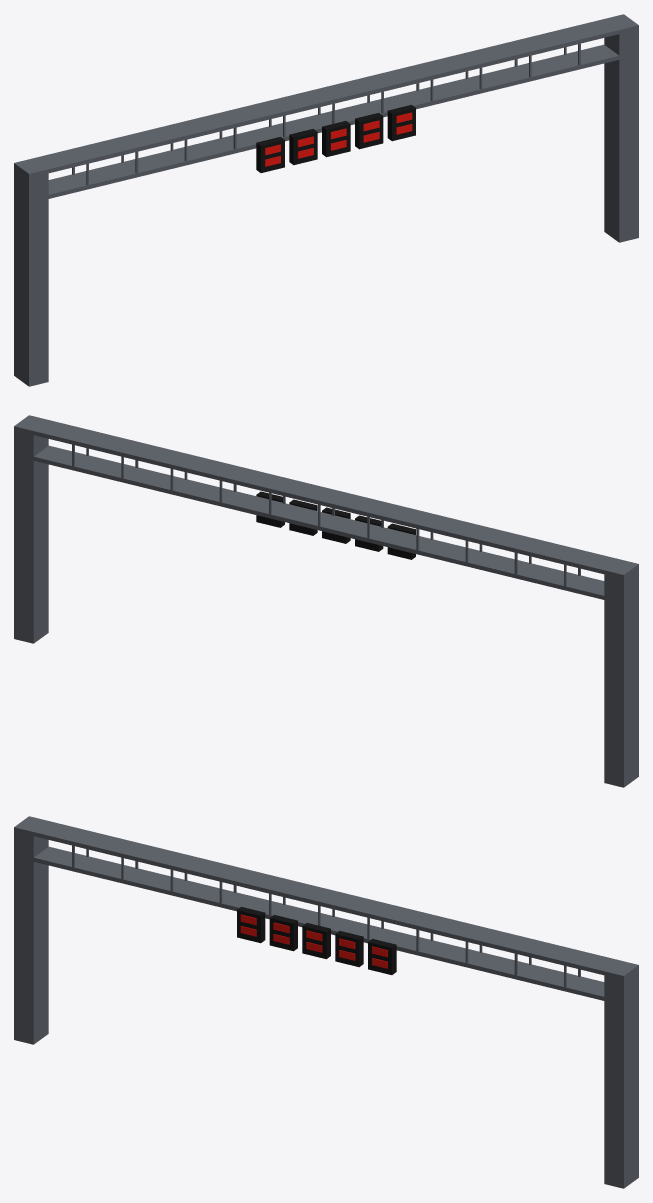
The model's file is start_gantry.glb.
3 renders of one model, top to bottom at view 1: azimuth 30°, elevation 25°; view 2: azimuth 150°, elevation 25°; view 3: azimuth 330°, elevation 25°, orthographic.
Visible parts, largest first — view 1: chunk_0_0; view 2: chunk_0_0; view 3: chunk_0_0.
Part boxes in pixels (box(x1,y1,x2,y2)): chunk_0_0: box(14, 14, 638, 386); chunk_0_0: box(14, 415, 638, 787); chunk_0_0: box(14, 816, 638, 1188).
Bounding box in the file's own units: 27.9 × 9.3 × 1.58.
